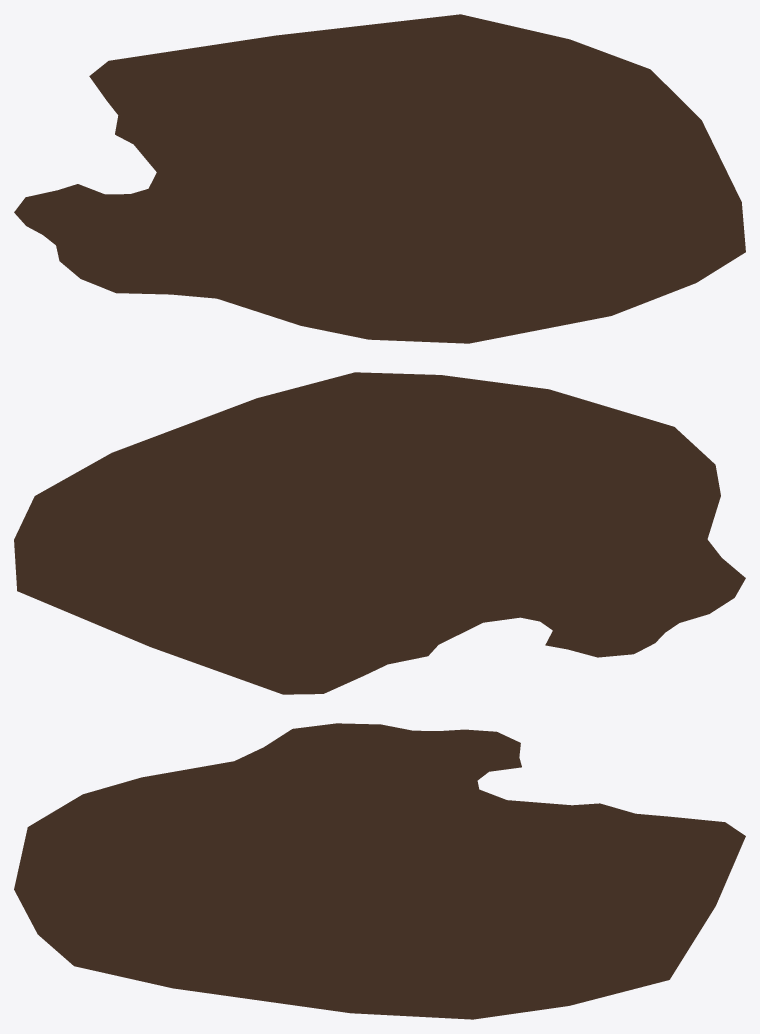
Rendered from Chão Jogável3.fbx.
The picture shows the model from 3 angles, top to bottom: view 1: azimuth 30°, elevation 25°; view 2: azimuth 150°, elevation 25°; view 3: azimuth 270°, elevation 25°; orthographic projection. The views are drawn at different scales.
Parts seen in each view (by area): view 1: Plane.002; view 2: Plane.002; view 3: Plane.002.
Part boxes in pixels (x1,y1,x2,y2): Plane.002: (14,14,745,343); Plane.002: (14,372,745,694); Plane.002: (14,723,745,1019).
Size of the model in its own units: 6085 by 0.00104 by 6355.
